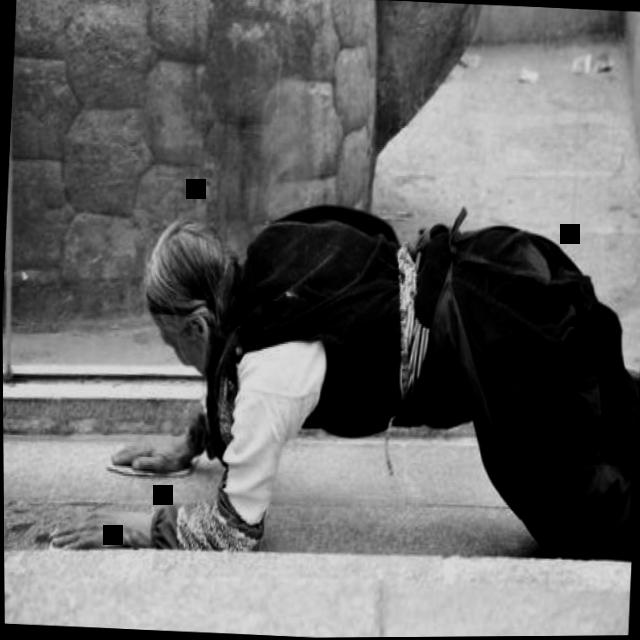Fall-Detected: (45, 189, 640, 573)
